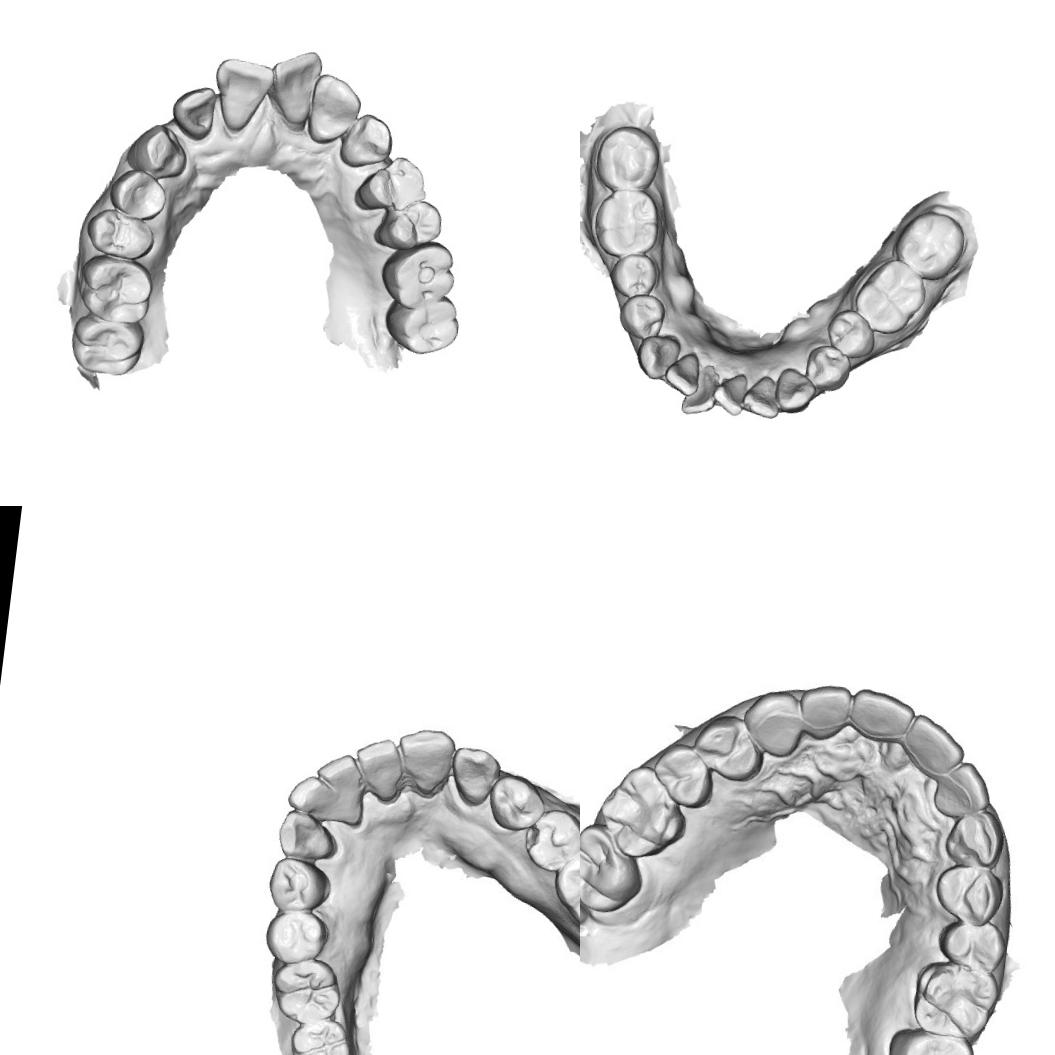canine: (737, 683, 810, 761), (122, 119, 192, 184), (941, 806, 1006, 871), (448, 743, 506, 810), (337, 110, 396, 172), (278, 806, 339, 864), (634, 333, 682, 382), (772, 366, 818, 416)
incisor: (208, 56, 276, 138), (264, 45, 325, 132), (392, 724, 458, 798), (303, 70, 365, 148), (844, 686, 917, 752), (902, 710, 970, 780), (347, 732, 409, 804), (794, 678, 854, 746), (937, 756, 995, 818), (310, 752, 368, 813), (167, 81, 218, 144), (287, 772, 342, 825), (740, 373, 782, 420), (680, 370, 720, 418), (662, 350, 702, 397), (710, 370, 748, 418)
molar: (594, 760, 693, 868), (906, 956, 1006, 1044), (580, 818, 649, 918), (850, 254, 930, 338), (375, 235, 460, 314), (75, 252, 156, 328), (266, 954, 346, 1030), (891, 206, 968, 284), (380, 288, 463, 359), (590, 185, 663, 262), (68, 311, 147, 379), (592, 122, 663, 194), (549, 836, 580, 935), (883, 1022, 975, 1055), (284, 1015, 354, 1055)
premolar: (688, 711, 766, 784), (352, 150, 432, 218), (930, 861, 1006, 926), (647, 739, 715, 810), (260, 906, 332, 970), (517, 803, 580, 876), (371, 194, 444, 255), (264, 856, 332, 920), (84, 205, 158, 263), (934, 917, 1008, 975), (481, 771, 548, 835), (106, 164, 170, 224), (823, 306, 878, 360), (802, 342, 853, 394), (616, 290, 668, 341), (608, 251, 660, 300)
